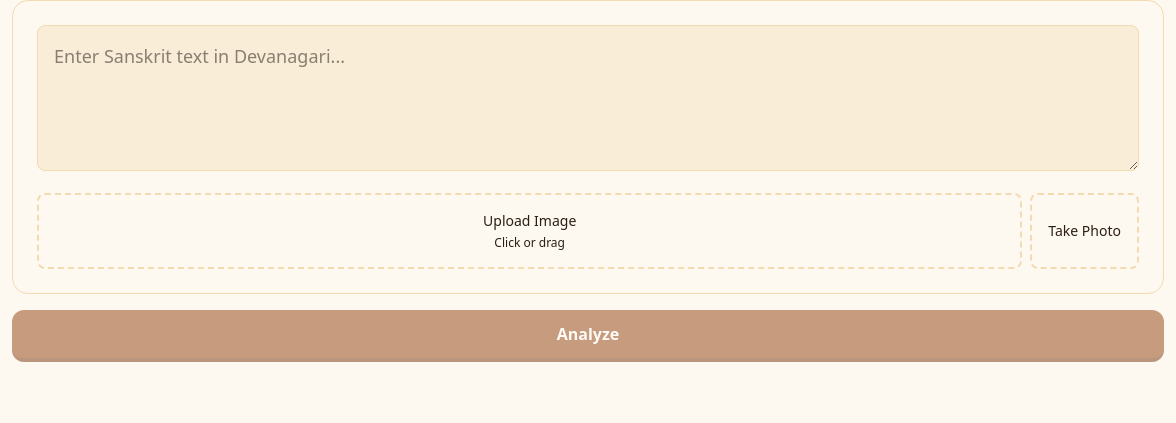
Test: AnalysisView IAST preview › shows IAST transliteration preview when Devanagari text is entered
Type "धर्म" into the text box with placeholder "Enter Sanskrit text in Devanagari...".
click(588, 98); type("धर्म")  # box 37,25 -> 1139,171
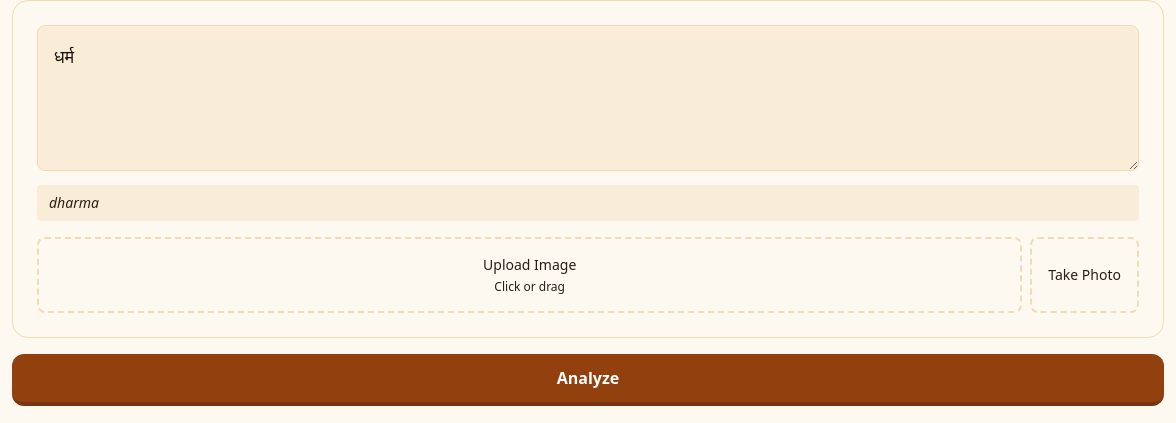
Now the text "dharma" is shown, box 37,185 -> 1139,221
